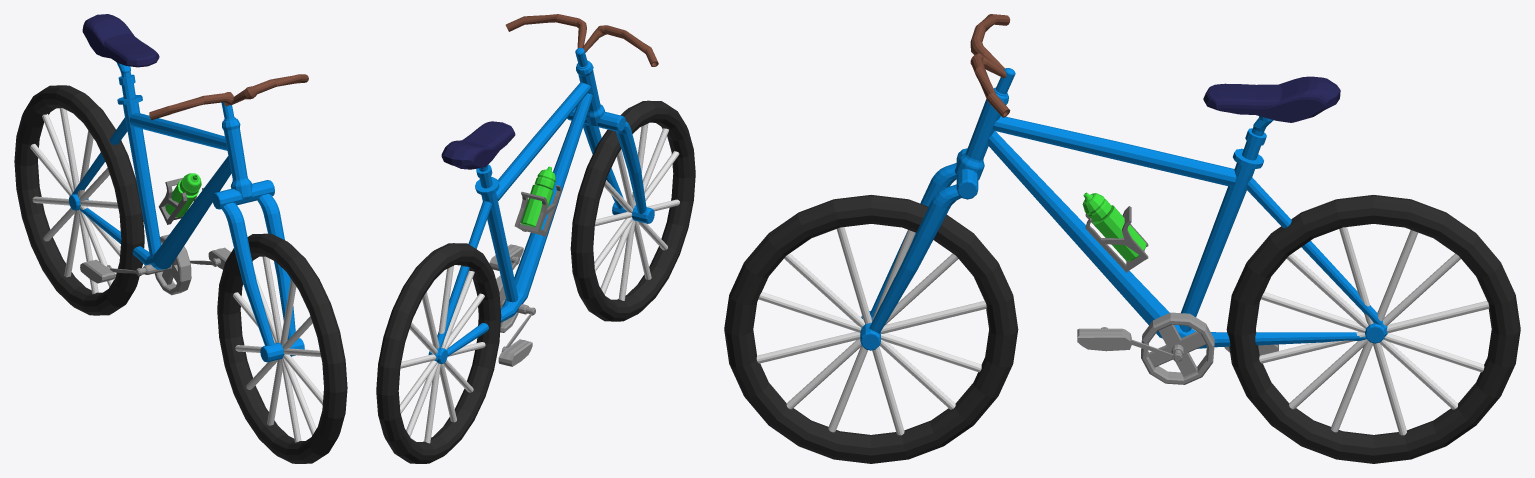
File: BicycleA.fbx
3 views of the same model, side by side, from view 1: azimuth 30°, elevation 25°; view 2: azimuth 150°, elevation 25°; view 3: azimuth 270°, elevation 25° (orthographic). The views are drawn at different scales.
Visible parts, largest first — view 1: BackWheel, FrontWheel, Spine, FrontWheel_MountLock, MiddleBase, BikeSeat, Handles, FrontWheel_Mount, PedalGear, Mount, WaterBottle, Cylinder.022 (+15 smaller); view 2: BackWheel, FrontWheel, Spine, BikeSeat, MiddleBase, FrontWheel_MountLock, Handles, WaterBottle, FrontWheel_Mount, BottleHolder, PedalB, Cylinder.015 (+17 smaller); view 3: BackWheel, FrontWheel, Spine, BikeSeat, MiddleBase, FrontWheel_MountLock, PedalGear, Handles, FrontWheel_Mount, WaterBottle, BottleHolder, PedalA (+19 smaller).
Boxes of the visible parts, x1=… form: BackWheel: x1=14, y1=85, x2=144, y2=315; FrontWheel: x1=217, y1=233, x2=347, y2=463; Spine: x1=72, y1=113, x2=231, y2=269; FrontWheel_MountLock: x1=221, y1=194, x2=295, y2=345; MiddleBase: x1=116, y1=62, x2=161, y2=257; BikeSeat: x1=82, y1=14, x2=159, y2=67; Handles: x1=149, y1=74, x2=308, y2=119; FrontWheel_Mount: x1=221, y1=102, x2=252, y2=199; PedalGear: x1=154, y1=234, x2=191, y2=295; Mount: x1=212, y1=180, x2=274, y2=209; WaterBottle: x1=165, y1=173, x2=201, y2=217; Cylinder.022: x1=262, y1=256, x2=282, y2=342; BackWheel: x1=376, y1=243, x2=501, y2=463; FrontWheel: x1=570, y1=100, x2=695, y2=321; Spine: x1=430, y1=82, x2=592, y2=361; BikeSeat: x1=441, y1=121, x2=515, y2=169; MiddleBase: x1=475, y1=164, x2=518, y2=302; FrontWheel_MountLock: x1=583, y1=121, x2=646, y2=213; Handles: x1=505, y1=14, x2=658, y2=66; WaterBottle: x1=520, y1=166, x2=555, y2=228; FrontWheel_Mount: x1=575, y1=48, x2=604, y2=126; BottleHolder: x1=514, y1=185, x2=561, y2=236; PedalB: x1=498, y1=339, x2=532, y2=366; Cylinder.015: x1=618, y1=220, x2=635, y2=300; BackWheel: x1=1226, y1=195, x2=1520, y2=463; FrontWheel: x1=724, y1=195, x2=1018, y2=463; Spine: x1=987, y1=116, x2=1387, y2=348; BikeSeat: x1=1203, y1=76, x2=1340, y2=122; MiddleBase: x1=1179, y1=116, x2=1273, y2=332; FrontWheel_MountLock: x1=869, y1=163, x2=961, y2=333; PedalGear: x1=1141, y1=312, x2=1214, y2=384; Handles: x1=970, y1=14, x2=1010, y2=117; FrontWheel_Mount: x1=954, y1=68, x2=1015, y2=180; WaterBottle: x1=1082, y1=192, x2=1146, y2=261; BottleHolder: x1=1085, y1=206, x2=1148, y2=272; PedalA: x1=1077, y1=328, x2=1131, y2=351.
Bounding box in the file's own units: 131 × 265 × 460.
